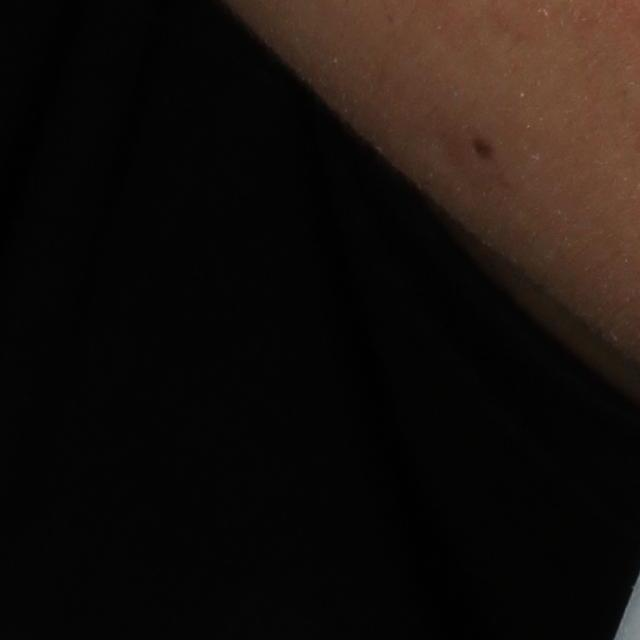nevus: (470, 141, 494, 160)
